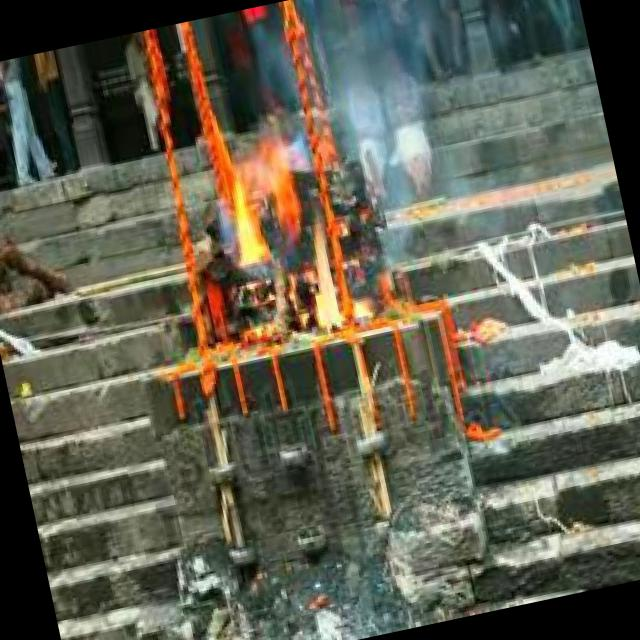Fire: (217, 125, 351, 348)
